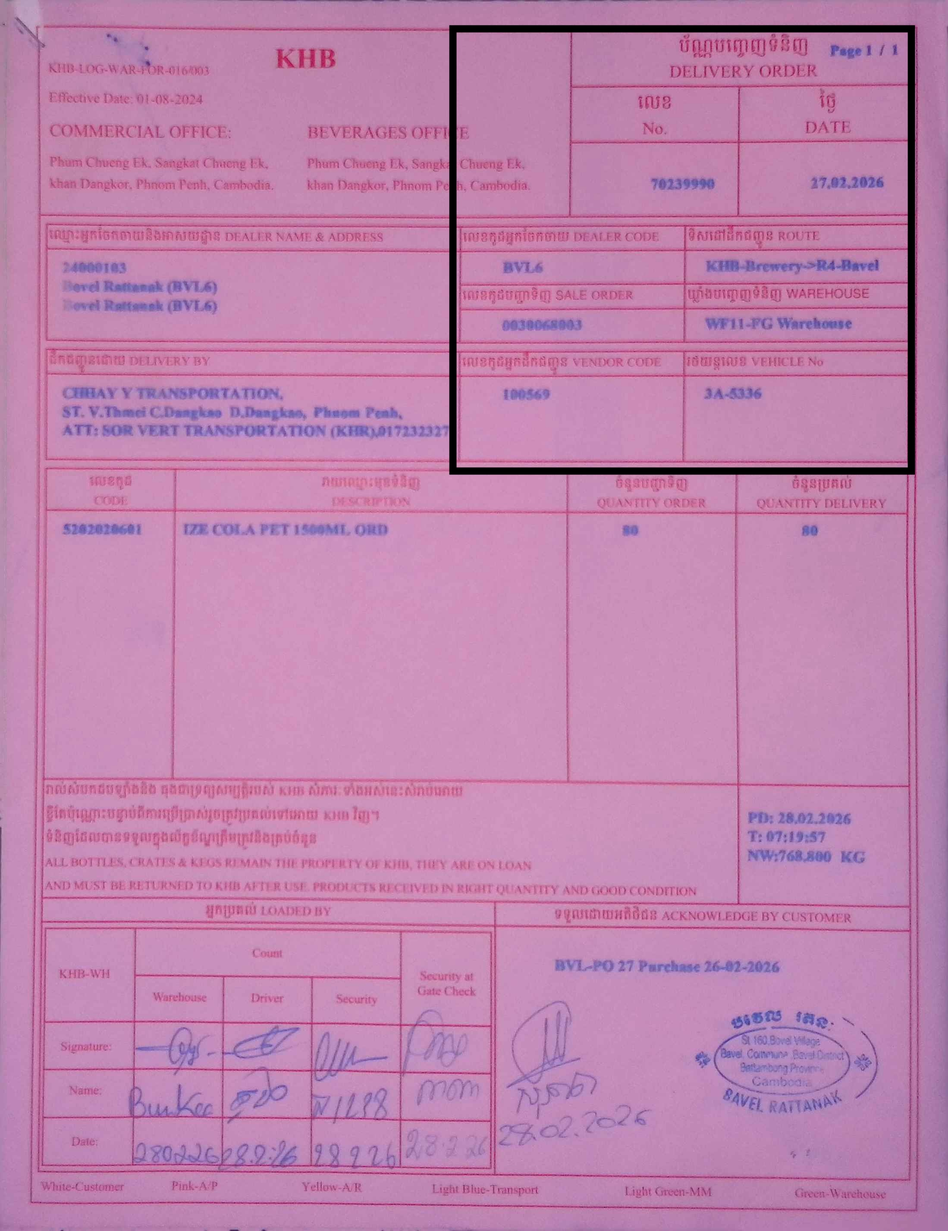Dealer Code: (488, 255, 597, 281)
Invoice Date: (792, 170, 920, 197)
Invoice No: (640, 172, 749, 197)
Route: (706, 246, 920, 295)
Sale Order: (488, 316, 635, 342)
Vehicle Code: (706, 388, 806, 425)
Vender Code: (474, 388, 597, 425)
Warehouse: (706, 308, 920, 357)
